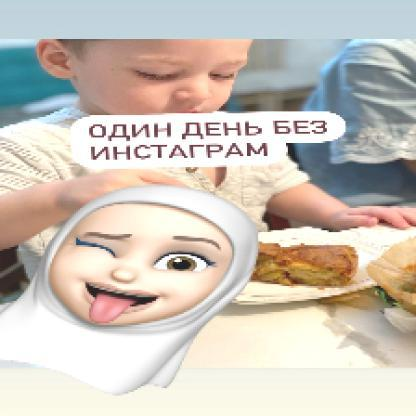child: (1, 40, 415, 252)
